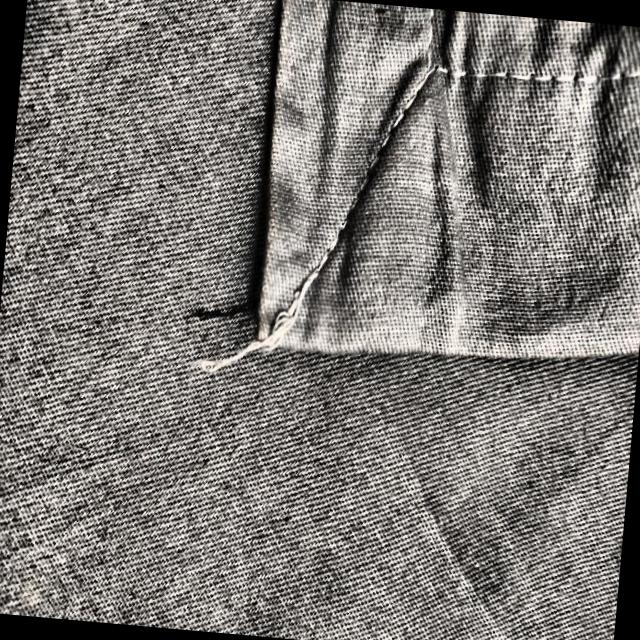selvet: (156, 218, 382, 428)
